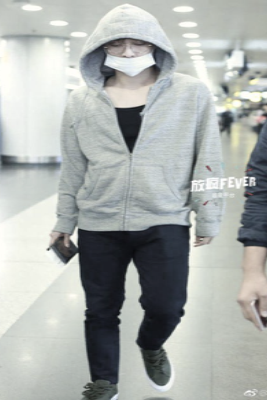mask_weared_incorrect: (102, 40, 157, 77)
